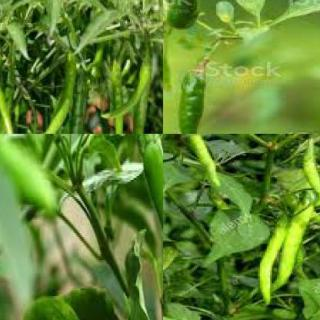green_chilli: (0, 134, 66, 218), (22, 49, 78, 133), (136, 139, 162, 318), (99, 46, 157, 120), (270, 208, 319, 293), (186, 133, 235, 214), (258, 212, 287, 304), (174, 68, 211, 133), (298, 137, 320, 208), (65, 77, 91, 133), (163, 0, 205, 34), (130, 79, 154, 133), (0, 69, 18, 133), (113, 62, 124, 133)
